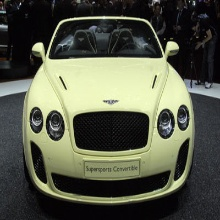no damage: (22, 15, 198, 207)
